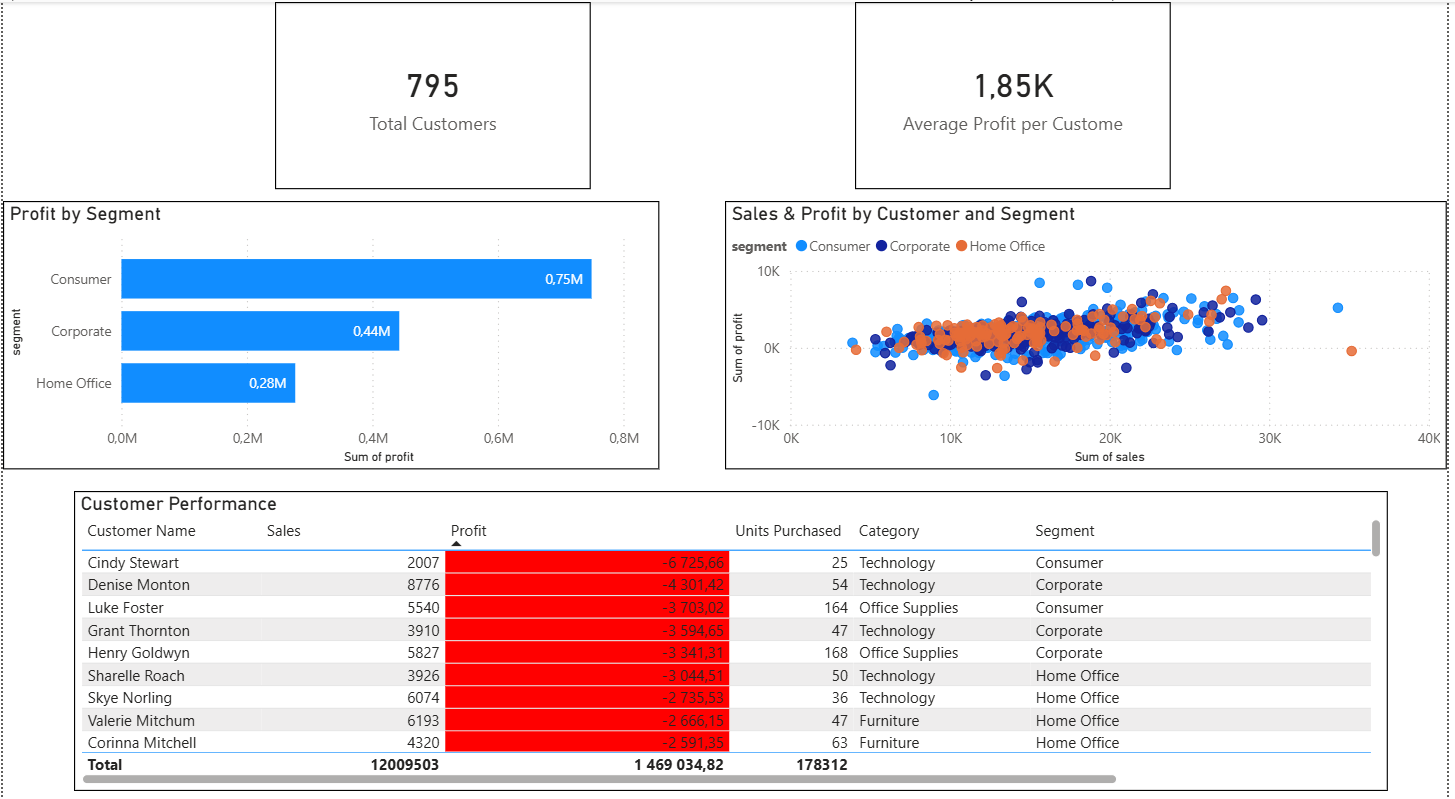

The dashboard page shown, as its layout file describes it:
{"tool":"powerbi","page":{"name":"Customer Analysis","canvas":[1280,720],"ordinal":3},"visuals":[{"type":"card","fields":{"Values":["Count(SuperStoreOrders.customer_name)"]},"box":[241.2,0,280.1,166.3],"z":0},{"type":"card","fields":{"Values":["SuperStoreOrders.AvgProfitPerCustomer"]},"box":[755.7,0,280.1,166.3],"z":1000},{"type":"clusteredBarChart","title":"Profit by Segment","fields":{"Category":["SuperStoreOrders.segment"],"Y":["Sum(SuperStoreOrders.profit)"]},"box":[0,176,581.6,238.3],"z":2000},{"type":"scatterChart","title":"Sales & Profit by Customer and Segment","fields":{"X":["Sum(SuperStoreOrders.sales)"],"Y":["Sum(SuperStoreOrders.profit)"],"Category":["SuperStoreOrders.customer_name"],"Series":["SuperStoreOrders.segment"]},"box":[640,176,640,238.3],"z":3000},{"type":"tableEx","title":"Customer Performance","fields":{"Values":["SuperStoreOrders.customer_name","Sum(SuperStoreOrders.sales)","Sum(SuperStoreOrders.profit)","Sum(SuperStoreOrders.quantity)","SuperStoreOrders.category","SuperStoreOrders.segment"]},"box":[63.2,433.8,1165.2,265.5],"z":4000}]}

Visuals, with their boxes in screenshot pixels (x1, y1, x2, y2), scaled from the page's 1280x720 canvas onto the 1455x799 screenshot:
card - Count(SuperStoreOrders.customer_name): 274/0/593/185
card - SuperStoreOrders.AvgProfitPerCustomer: 859/0/1177/185
"Profit by Segment" clusteredBarChart: 0/195/661/460
"Sales & Profit by Customer and Segment" scatterChart: 728/195/1454/460
"Customer Performance" tableEx: 72/481/1396/776
